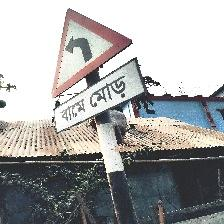Left-Turn: (51, 7, 144, 133)
